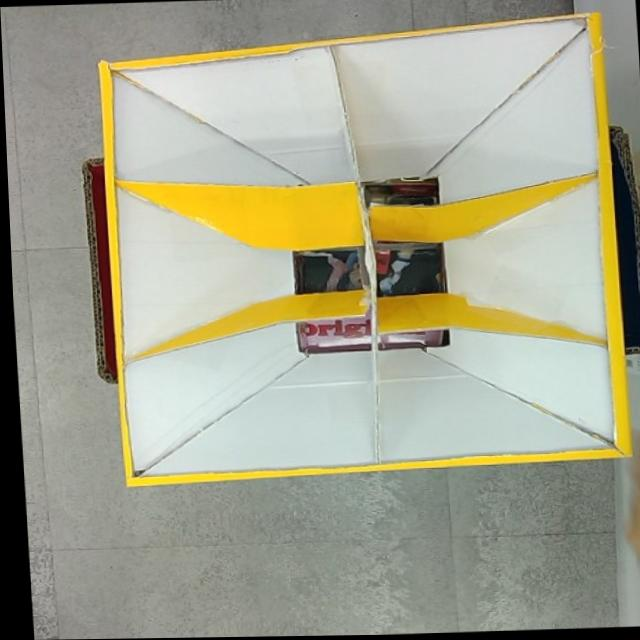box: (72, 11, 640, 485)
